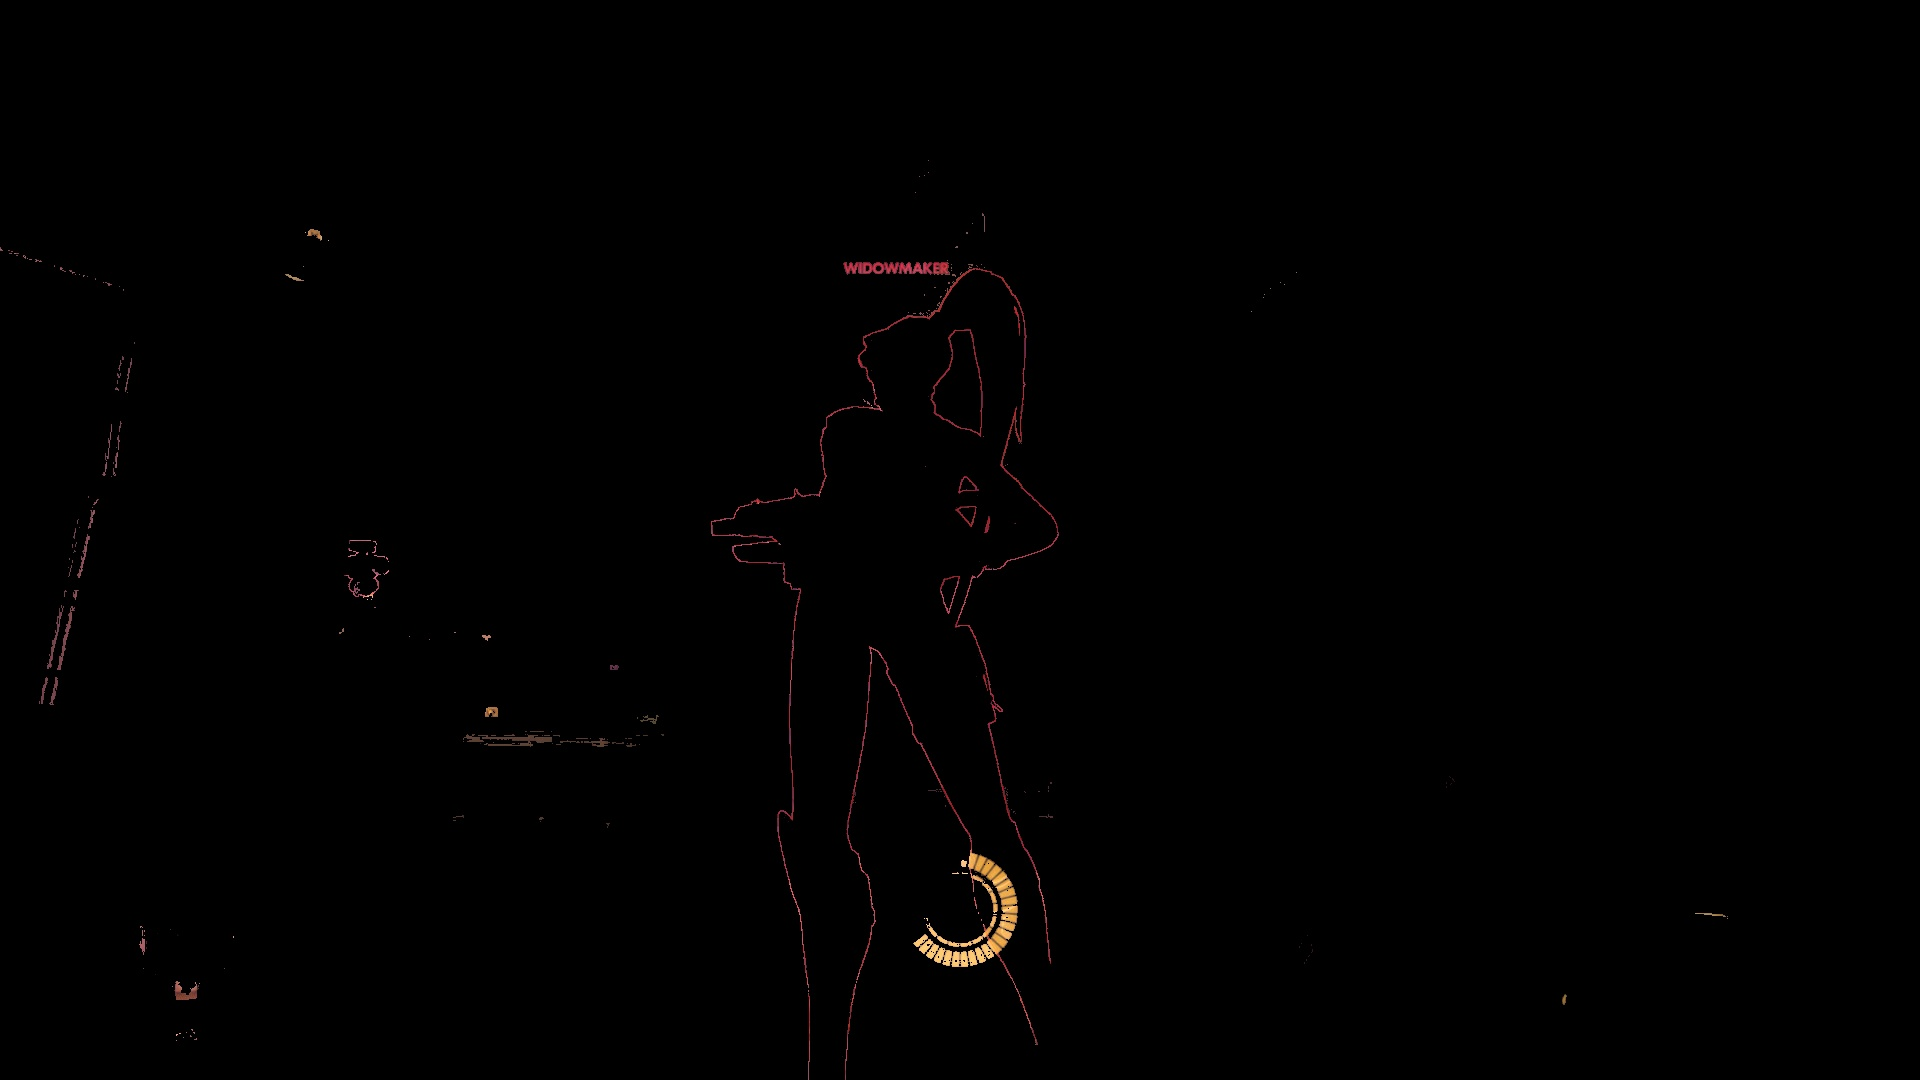widowmaker: (709, 270, 1058, 1080)
